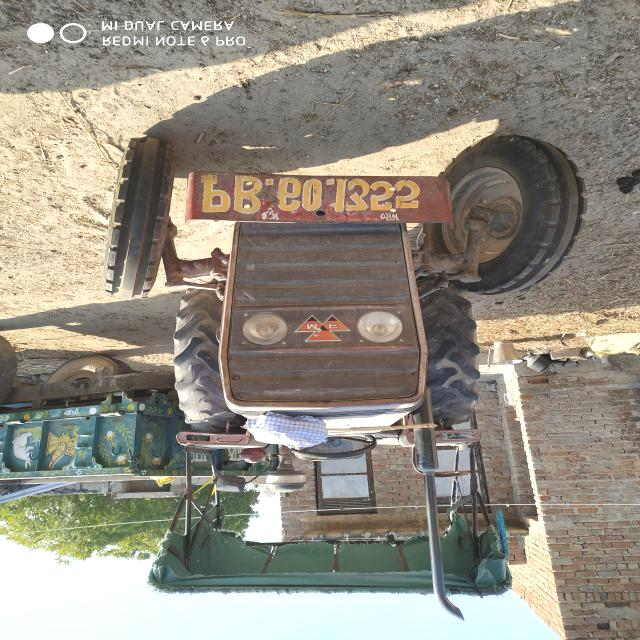Tratores - v5 YOLO V8L 2024-11-13: (102, 129, 598, 599)
